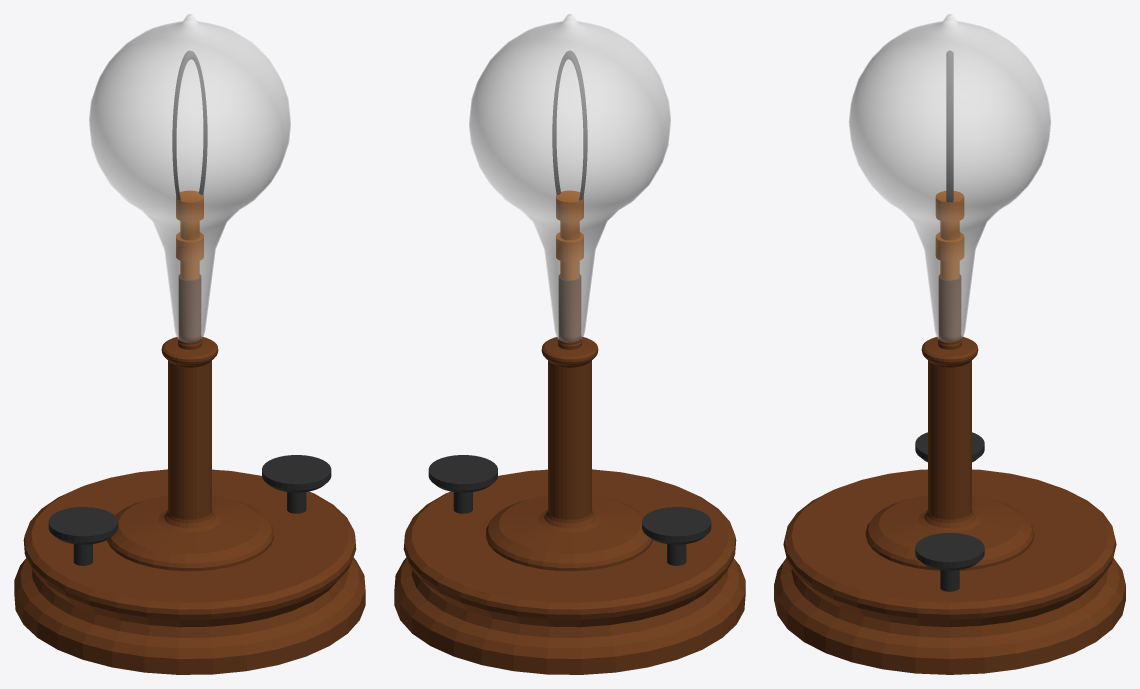
The model's file is V_Francisco09_Lampada.fbx.
3 views of the same model, side by side, from view 1: azimuth 30°, elevation 25°; view 2: azimuth 150°, elevation 25°; view 3: azimuth 270°, elevation 25° (orthographic).
Parts seen in each view (by area): view 1: Base, Lampada, Botoes, Filamento; view 2: Base, Lampada, Botoes, Filamento; view 3: Base, Lampada, Botoes, Filamento.
Part boxes in pixels (box(x1,y1,x2,y2)): Base: box(14, 190, 365, 674); Lampada: box(89, 14, 290, 342); Botoes: box(48, 455, 331, 565); Filamento: box(172, 50, 207, 200); Base: box(394, 190, 745, 674); Lampada: box(469, 14, 670, 342); Botoes: box(428, 455, 711, 565); Filamento: box(552, 50, 587, 200); Base: box(774, 191, 1125, 674); Lampada: box(849, 14, 1050, 342); Botoes: box(915, 432, 984, 591); Filamento: box(946, 50, 953, 202).
Size of the model in its own units: 120 by 220 by 120.
